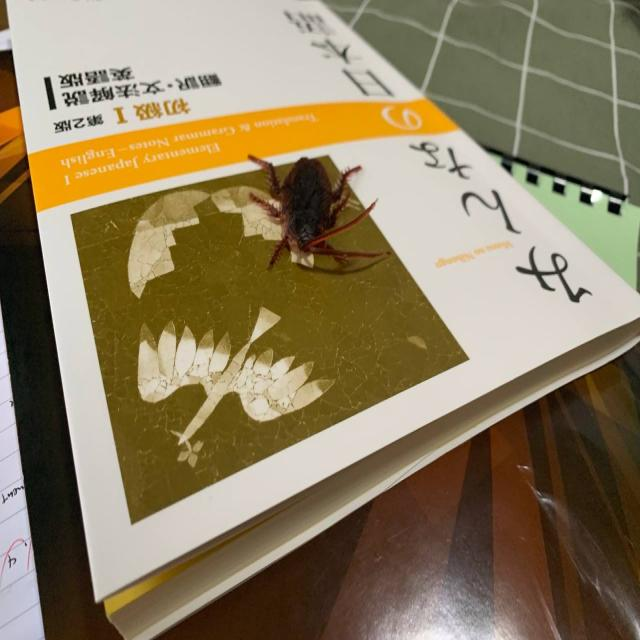Cockroach: (235, 139, 391, 301)
